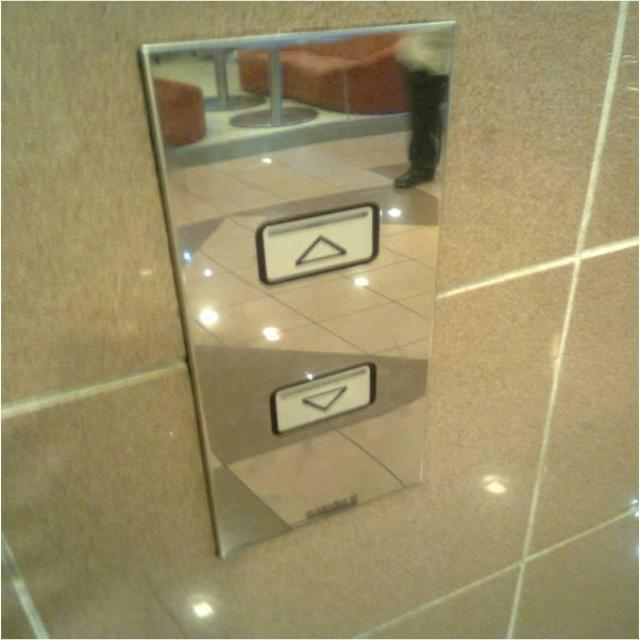down: (265, 358, 377, 436)
up: (251, 201, 380, 285)
